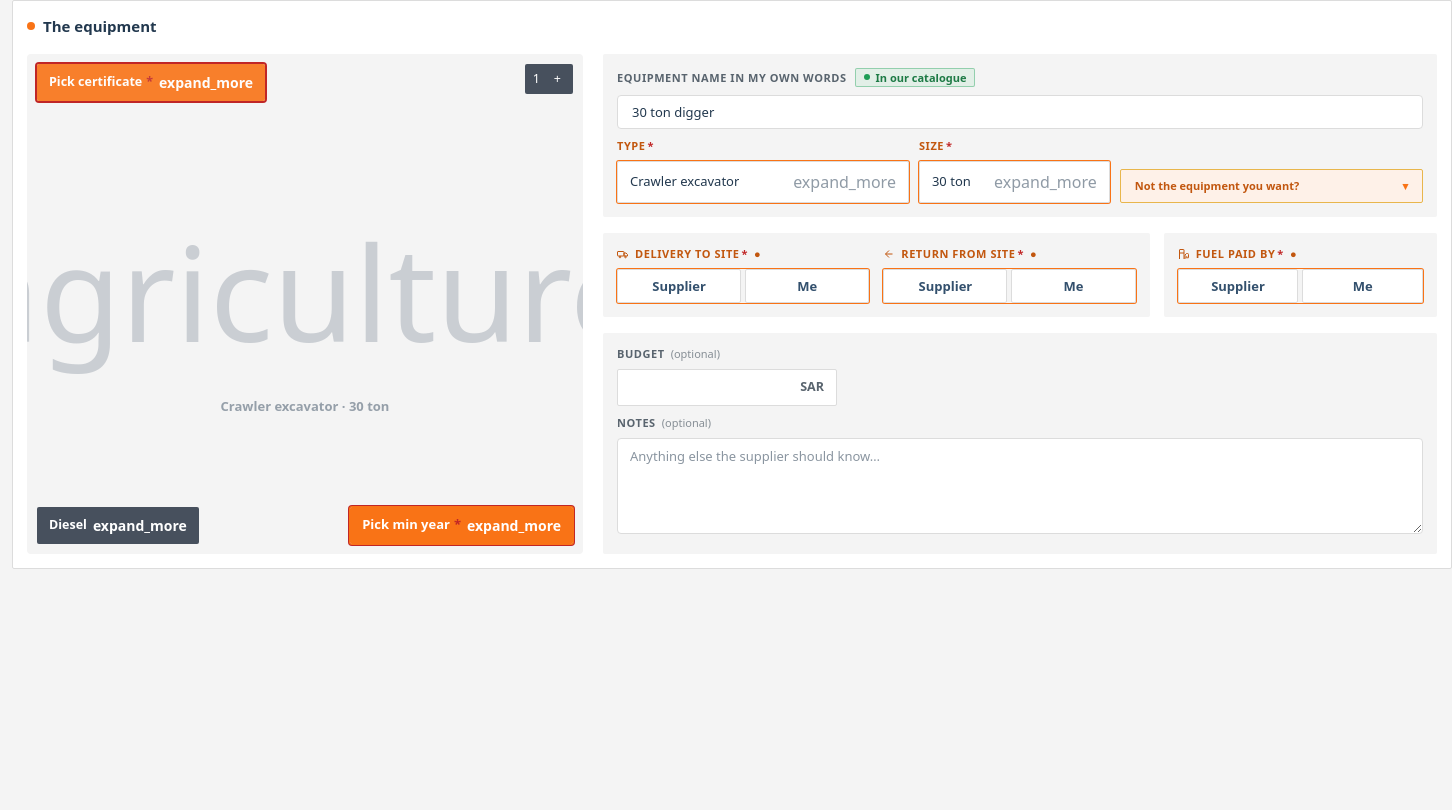
Test: the four overlay controls (MREQ-AC-16) › counts up from the panel chip
What coordinates should you click on to do the following:
click the button named "QUANTITY +"
I would click on:
 (557, 79)
Its box is [550, 70, 565, 88].
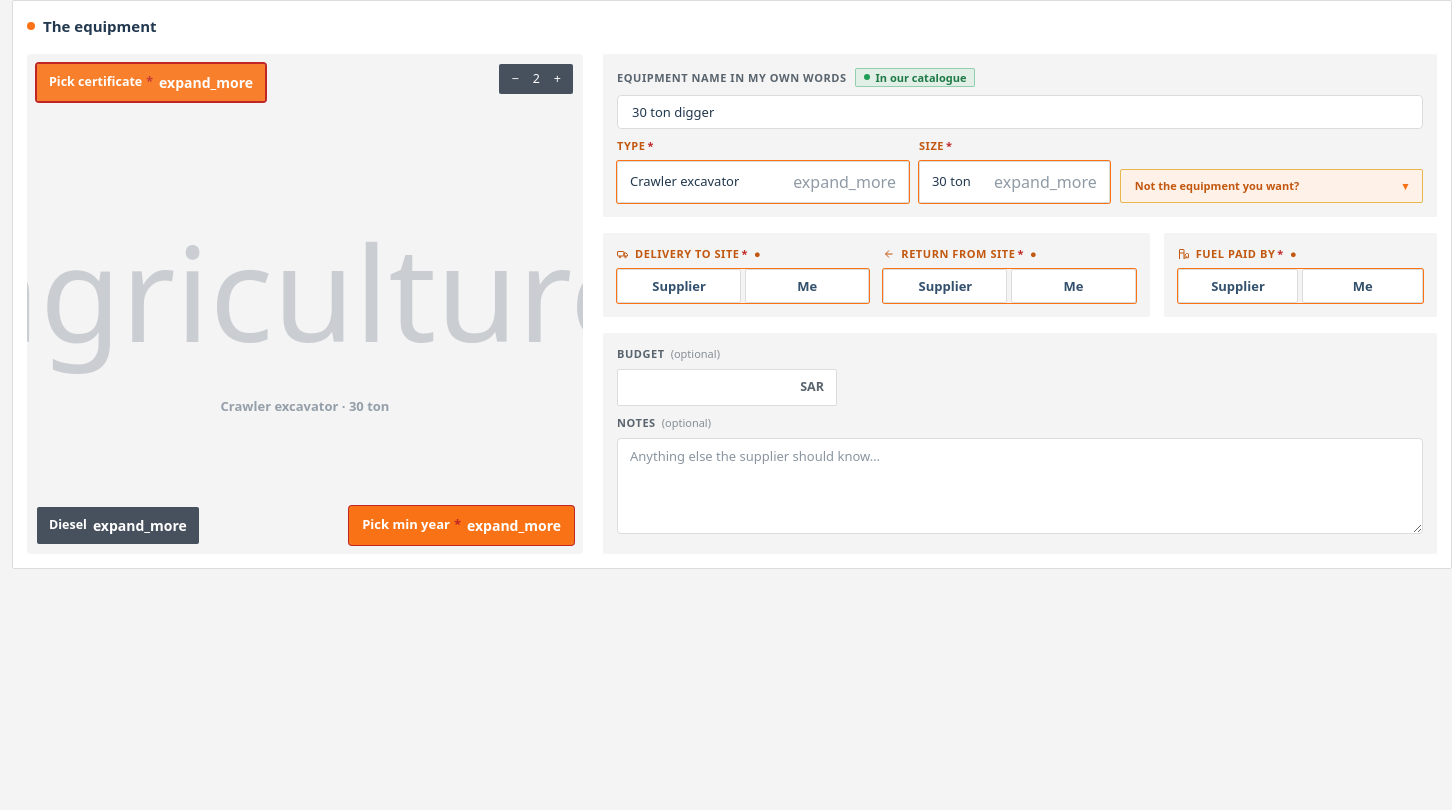
expect the text "2" is shown: met, box [533, 70, 540, 88]
